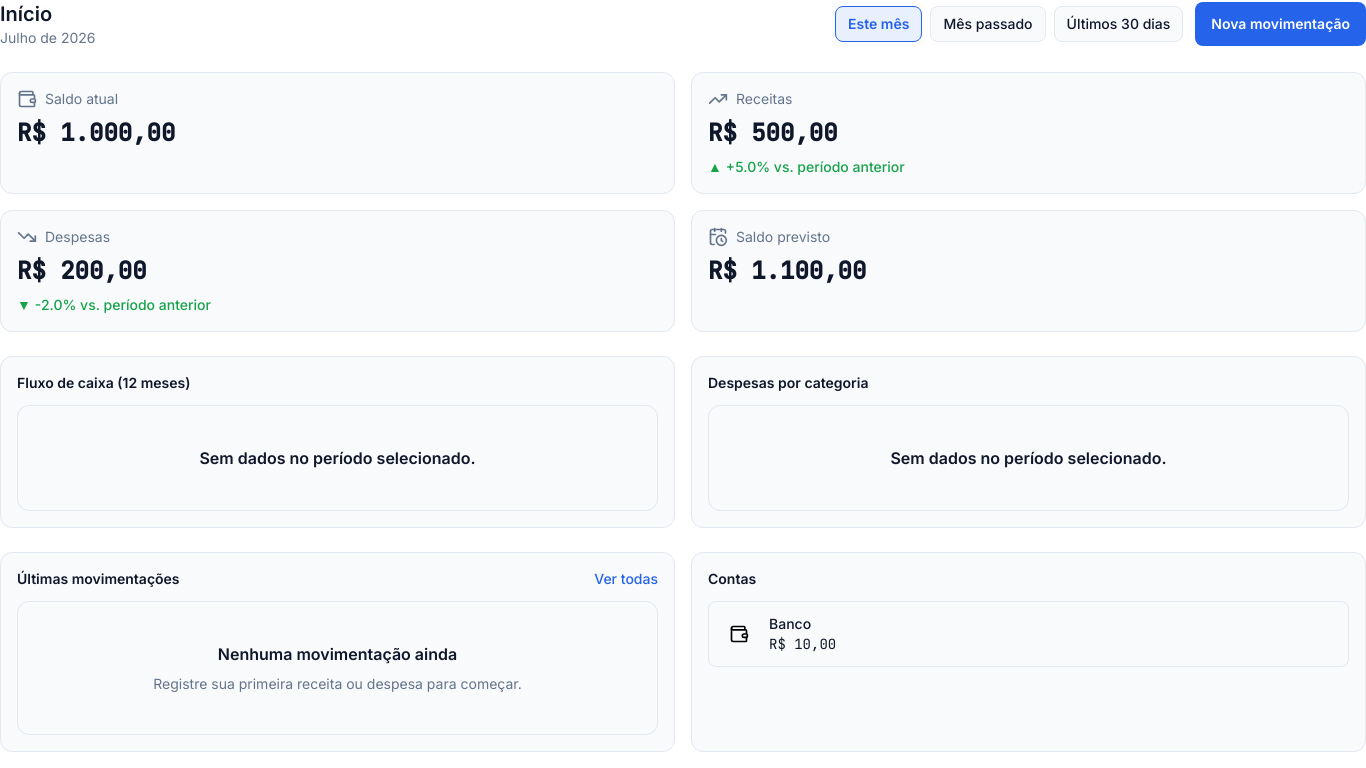
Scenario: Dashboard › clicar em "Nova movimentação" abre o formulário
The width and height of the screenshot is (1366, 768).
Expected: the text "Saldo atual" is shown, [45,89,118,109]
Step 1. Click the button "Nova movimentação" → [1281, 24], box [1195,2,1365,46]
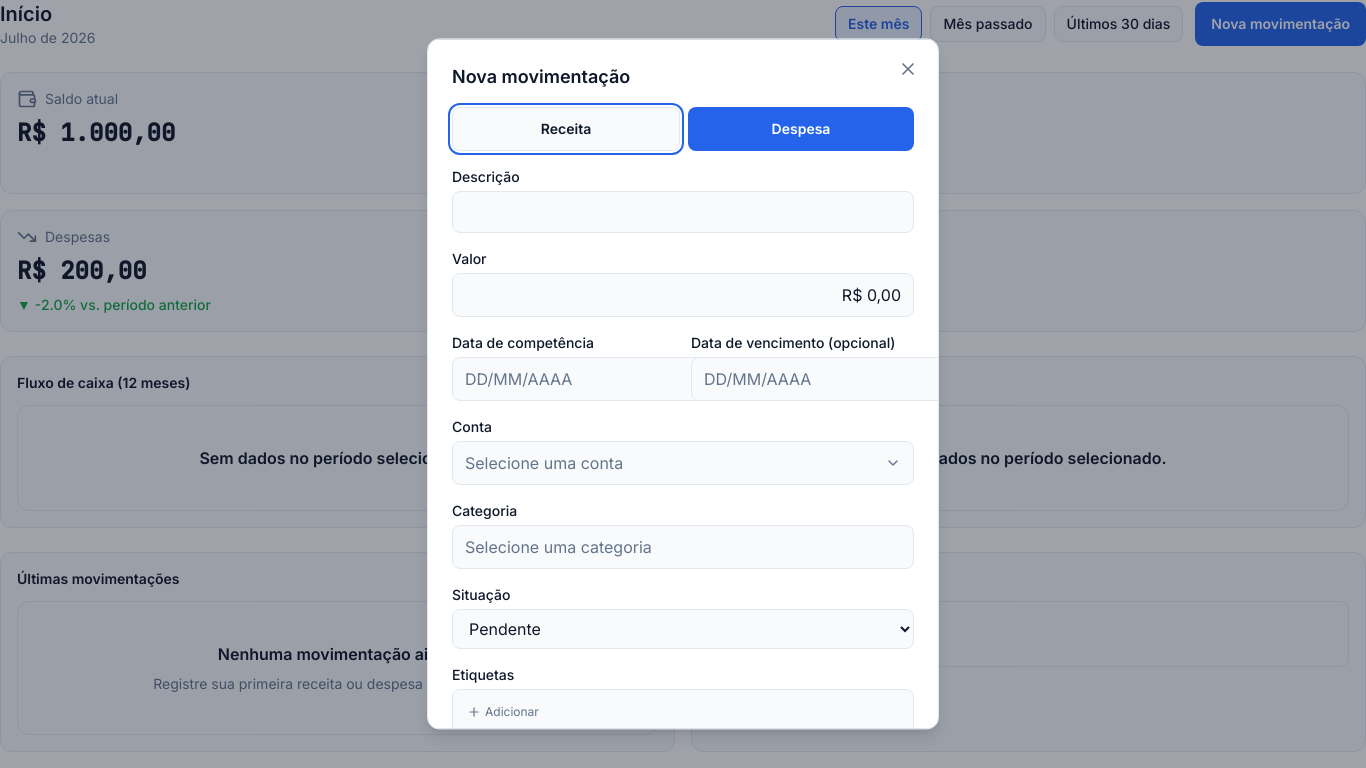
Expected: the dialog is shown, [427,38,939,730]
